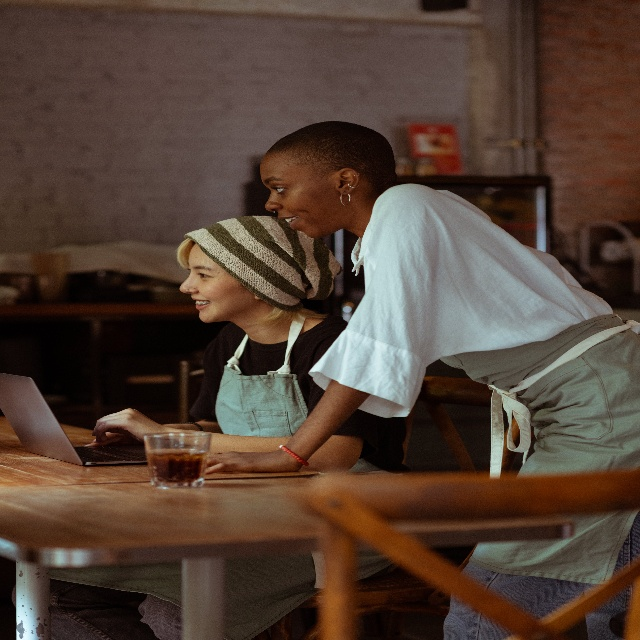Sin_guantes: (93, 408, 154, 442), (206, 449, 300, 467)
